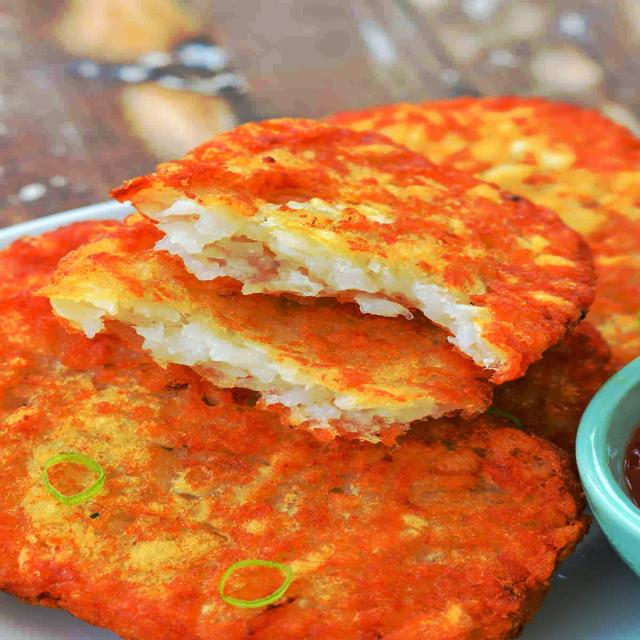Hashbrown: (0, 223, 585, 640), (125, 118, 598, 379), (53, 214, 492, 438), (321, 99, 640, 358)
